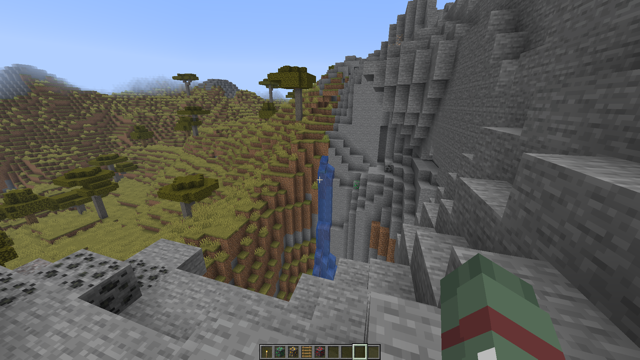coal: (1, 248, 168, 312)
copper: (383, 161, 394, 174)
emerald: (353, 180, 360, 189)
